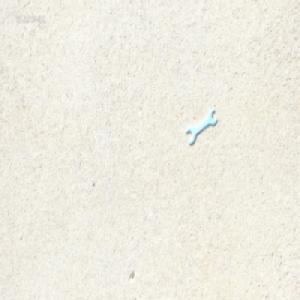Wrench: (185, 108, 216, 144)
